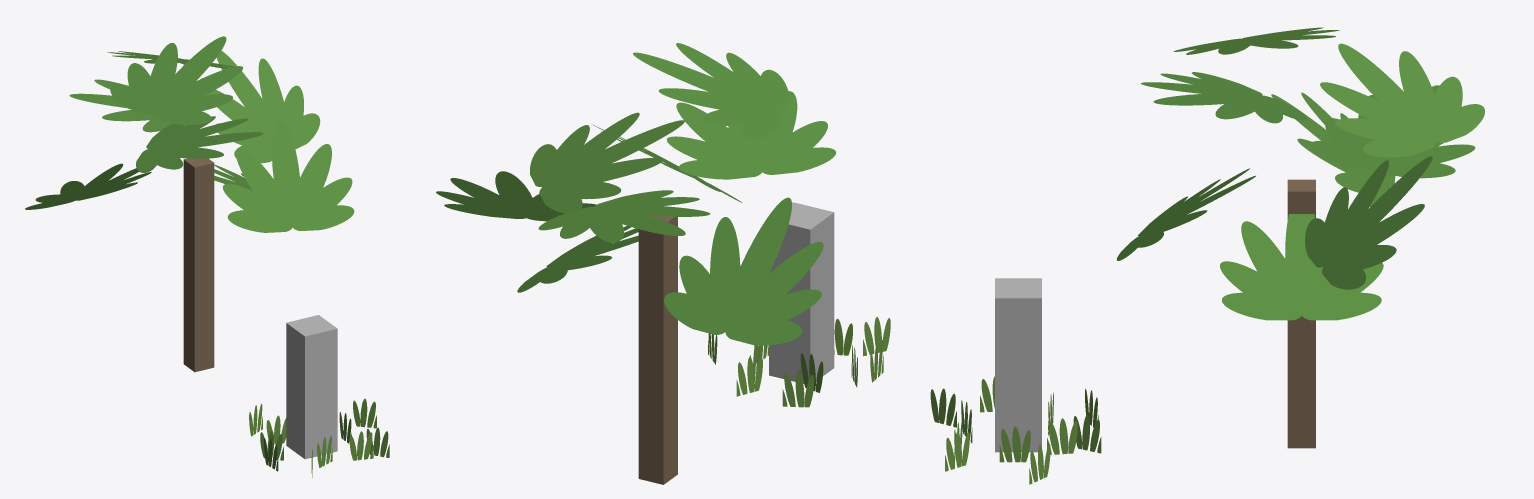
3 views of the same model, side by side, from view 1: azimuth 30°, elevation 25°; view 2: azimuth 150°, elevation 25°; view 3: azimuth 270°, elevation 25° (orthographic). The views are drawn at different scales.
Parts seen in each view (by area): view 1: Leaf_2, Pawn, Trunk, Leaf_4, Leaf_8, Leaf_3, Leaf_5, Leaf_6, Grass_3, Grass_12, Leaf_7, Leaf_1 (+1 smaller); view 2: Leaf_5, Trunk, Leaf_3, Leaf_7, Leaf_4, Pawn, Leaf_6, Leaf_8, Leaf_1, Grass_9, Grass_10, Grass_5 (+1 smaller); view 3: Leaf_7, Leaf_1, Leaf_8, Pawn, Trunk, Leaf_3, Leaf_6, Leaf_2, Leaf_5, Leaf_4, Grass_1, Grass_11 (+3 smaller).
Boxes of the visible parts, left/top/right/bottom form: Leaf_2: left=222, top=121, right=354, bottom=232; Pawn: left=286, top=315, right=337, bottom=459; Trunk: left=183, top=158, right=214, bottom=372; Leaf_4: left=110, top=36, right=242, bottom=124; Leaf_8: left=206, top=50, right=320, bottom=163; Leaf_3: left=136, top=116, right=263, bottom=172; Leaf_5: left=25, top=163, right=151, bottom=209; Leaf_6: left=69, top=79, right=186, bottom=132; Grass_3: left=349, top=431, right=373, bottom=460; Grass_12: left=353, top=398, right=376, bottom=428; Leaf_7: left=107, top=51, right=233, bottom=68; Leaf_1: left=214, top=164, right=252, bottom=191; Leaf_5: left=664, top=197, right=823, bottom=345; Trunk: left=638, top=216, right=677, bottom=484; Leaf_3: left=666, top=91, right=835, bottom=179; Leaf_7: left=530, top=112, right=684, bottom=213; Leaf_4: left=633, top=43, right=789, bottom=139; Pawn: left=769, top=202, right=834, bottom=383; Leaf_6: left=538, top=190, right=710, bottom=242; Leaf_8: left=436, top=171, right=596, bottom=221; Leaf_1: left=517, top=225, right=638, bottom=292; Grass_9: left=782, top=371, right=814, bottom=407; Grass_10: left=736, top=357, right=762, bottom=396; Grass_5: left=863, top=317, right=890, bottom=356; Leaf_7: left=1320, top=43, right=1484, bottom=157; Leaf_1: left=1220, top=214, right=1383, bottom=320; Leaf_8: left=1305, top=156, right=1432, bottom=289; Pawn: left=995, top=278, right=1041, bottom=452; Trunk: left=1287, top=179, right=1315, bottom=448; Leaf_3: left=1141, top=72, right=1306, bottom=123; Leaf_6: left=1309, top=85, right=1475, bottom=178; Leaf_2: left=1116, top=168, right=1255, bottom=260; Leaf_5: left=1271, top=92, right=1395, bottom=206; Leaf_4: left=1173, top=27, right=1339, bottom=54; Grass_1: left=999, top=426, right=1030, bottom=462; Grass_11: left=1047, top=418, right=1077, bottom=454.
Size of what is drawn, in the model's own units: 4.62 by 4.81 by 6.3.
Materials: 4 (2 with a texture image).
